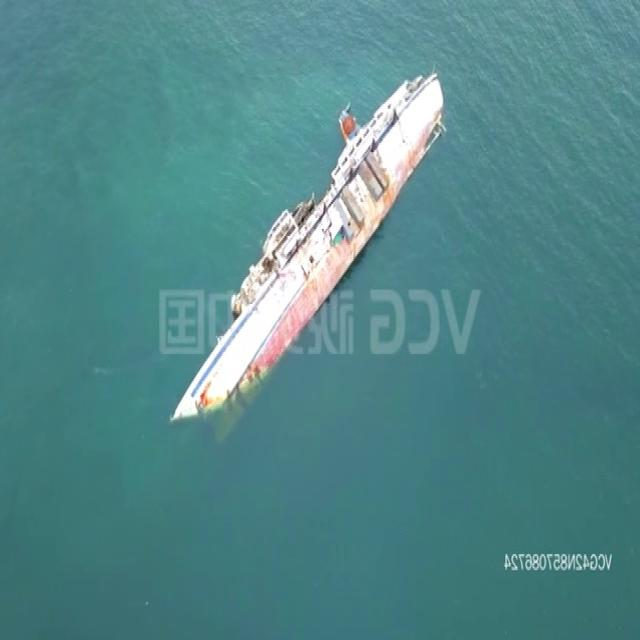cargoship: (164, 58, 448, 427)
